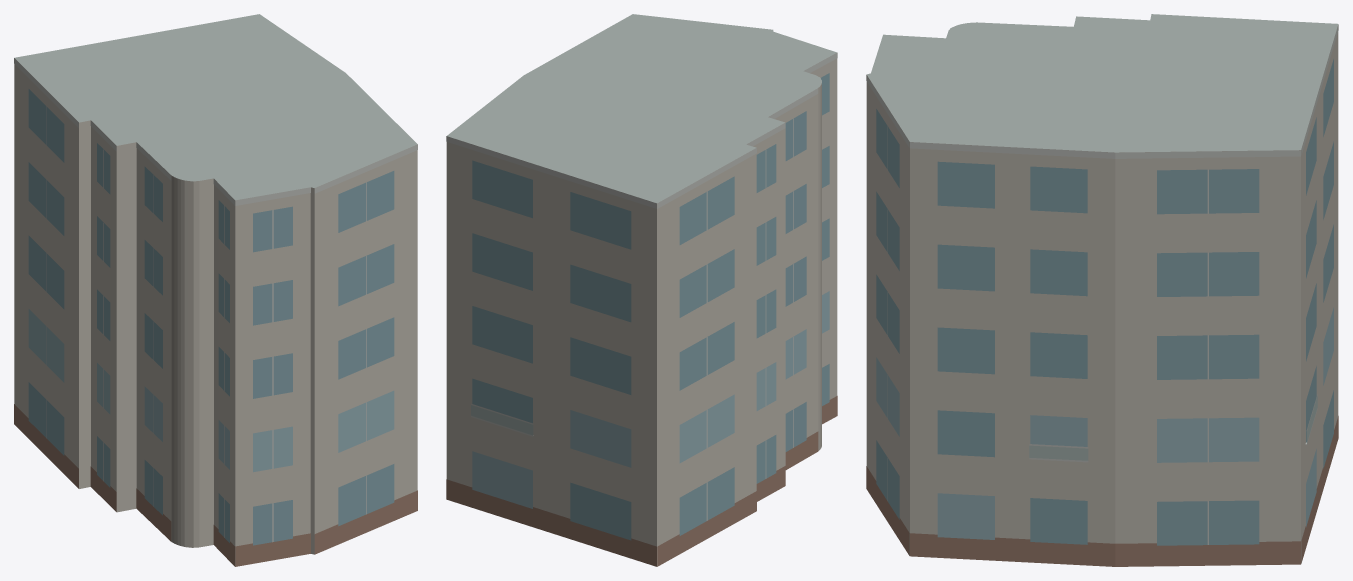
Rendered from survey-upis-32666008.glb.
3 renders of one model, left to right at view 1: azimuth 30°, elevation 25°; view 2: azimuth 150°, elevation 25°; view 3: azimuth 270°, elevation 25°, orthographic. The views are drawn at different scales.
Parts seen in each view (by area): view 1: survey-upis-32666008.tmp; view 2: survey-upis-32666008.tmp; view 3: survey-upis-32666008.tmp.
Part boxes in pixels (<box>): survey-upis-32666008.tmp: <box>14,14,417,566</box>; survey-upis-32666008.tmp: <box>446,14,837,566</box>; survey-upis-32666008.tmp: <box>866,14,1338,566</box>.
Bounding box in the file's own units: 11.23 × 15.65 × 16.17.
